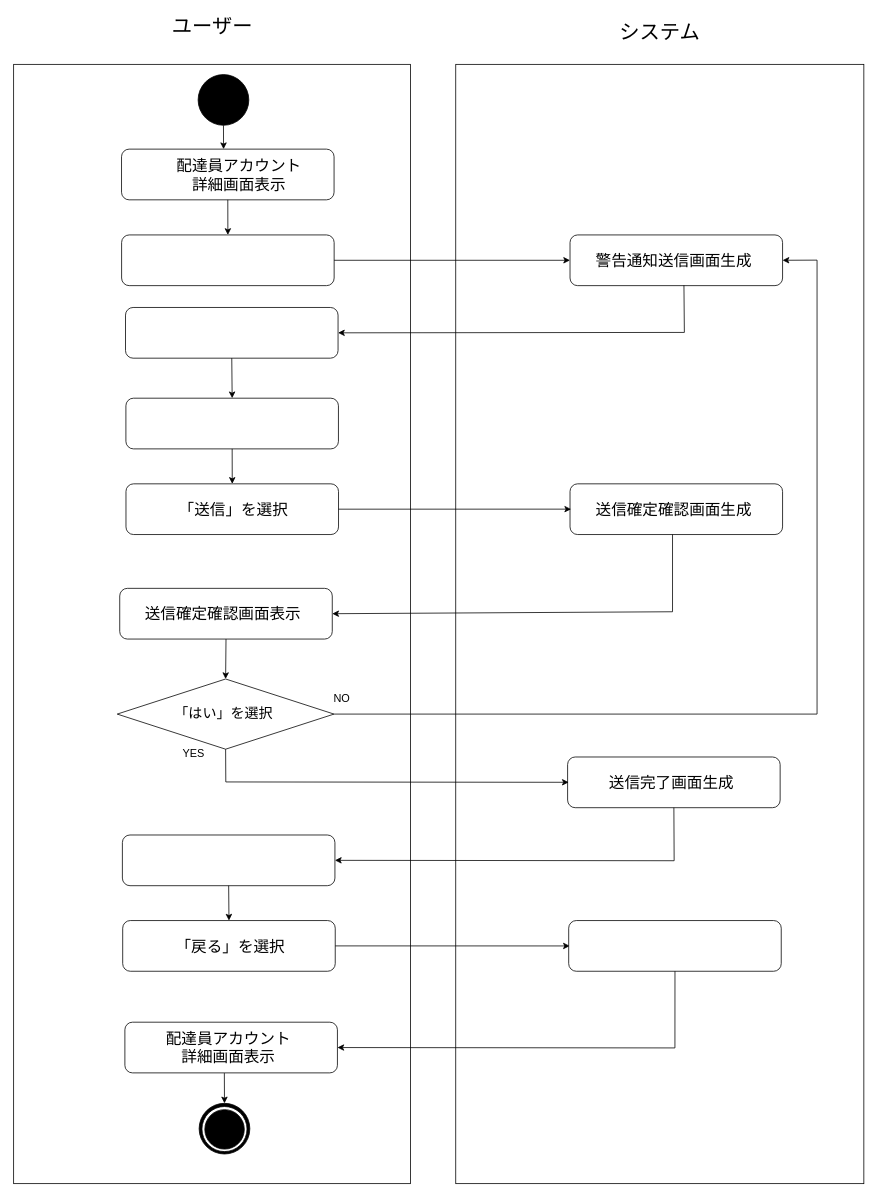
This 877x1197 diagram has some shape labels left out. Here are the shapes that lost their labels. From the top down, the centre of each, then its label:
the point at 227,260: 「警告通知」を選択
the point at 231,332: 警告通知送信画面表示
the point at 231,423: 通知内容の入力
the point at 228,860: 送信完了画面表示
the point at 674,945: 配達員アカウント 詳細画面生成
